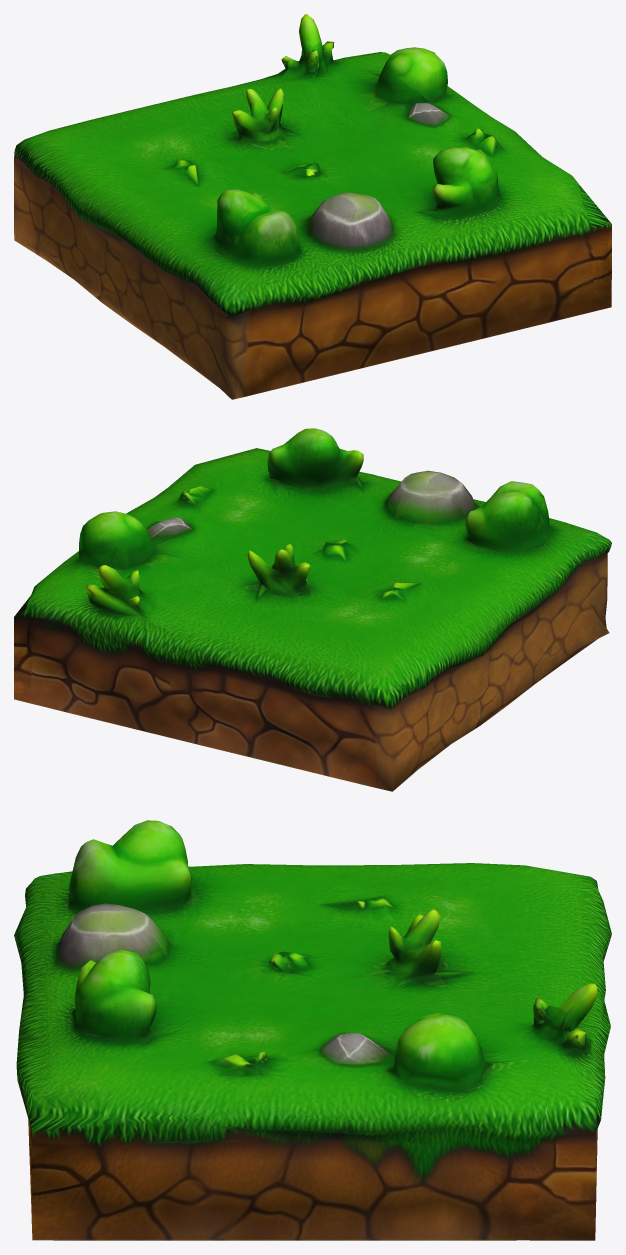
File: gndx_grass.glb
3 renders of one model, top to bottom at view 1: azimuth 30°, elevation 25°; view 2: azimuth 150°, elevation 25°; view 3: azimuth 270°, elevation 25°, orthographic. The views are drawn at different scales.
Bounding box in the file's own units: 1.88 × 0.7342 × 1.88.
Materials: 1 (1 with a texture image).
